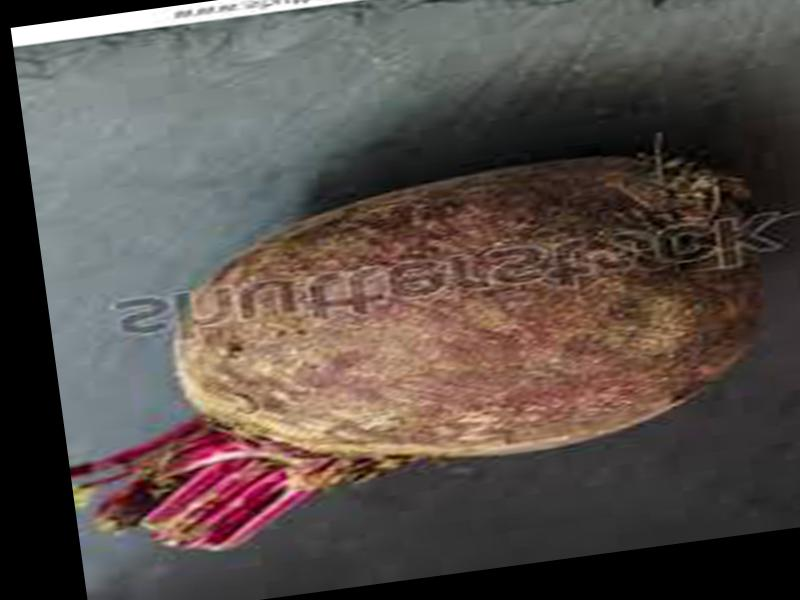Beet: (42, 135, 792, 564)
